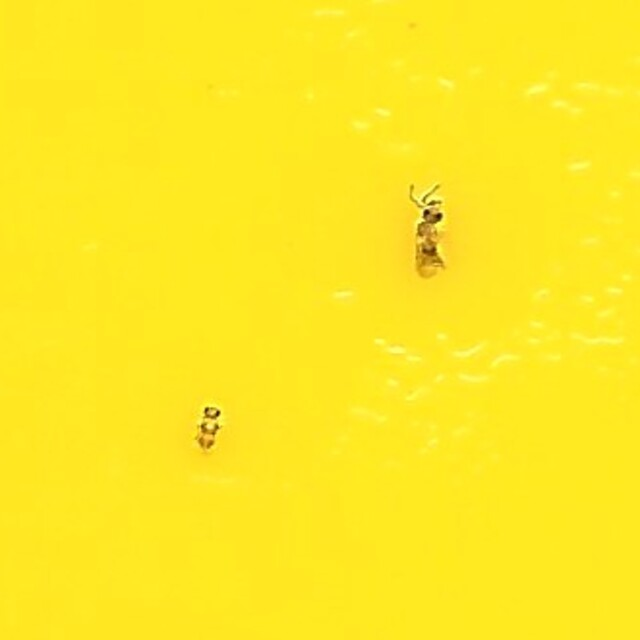Brachycera: (408, 180, 447, 278)
Hemiptera: (193, 402, 220, 460)
